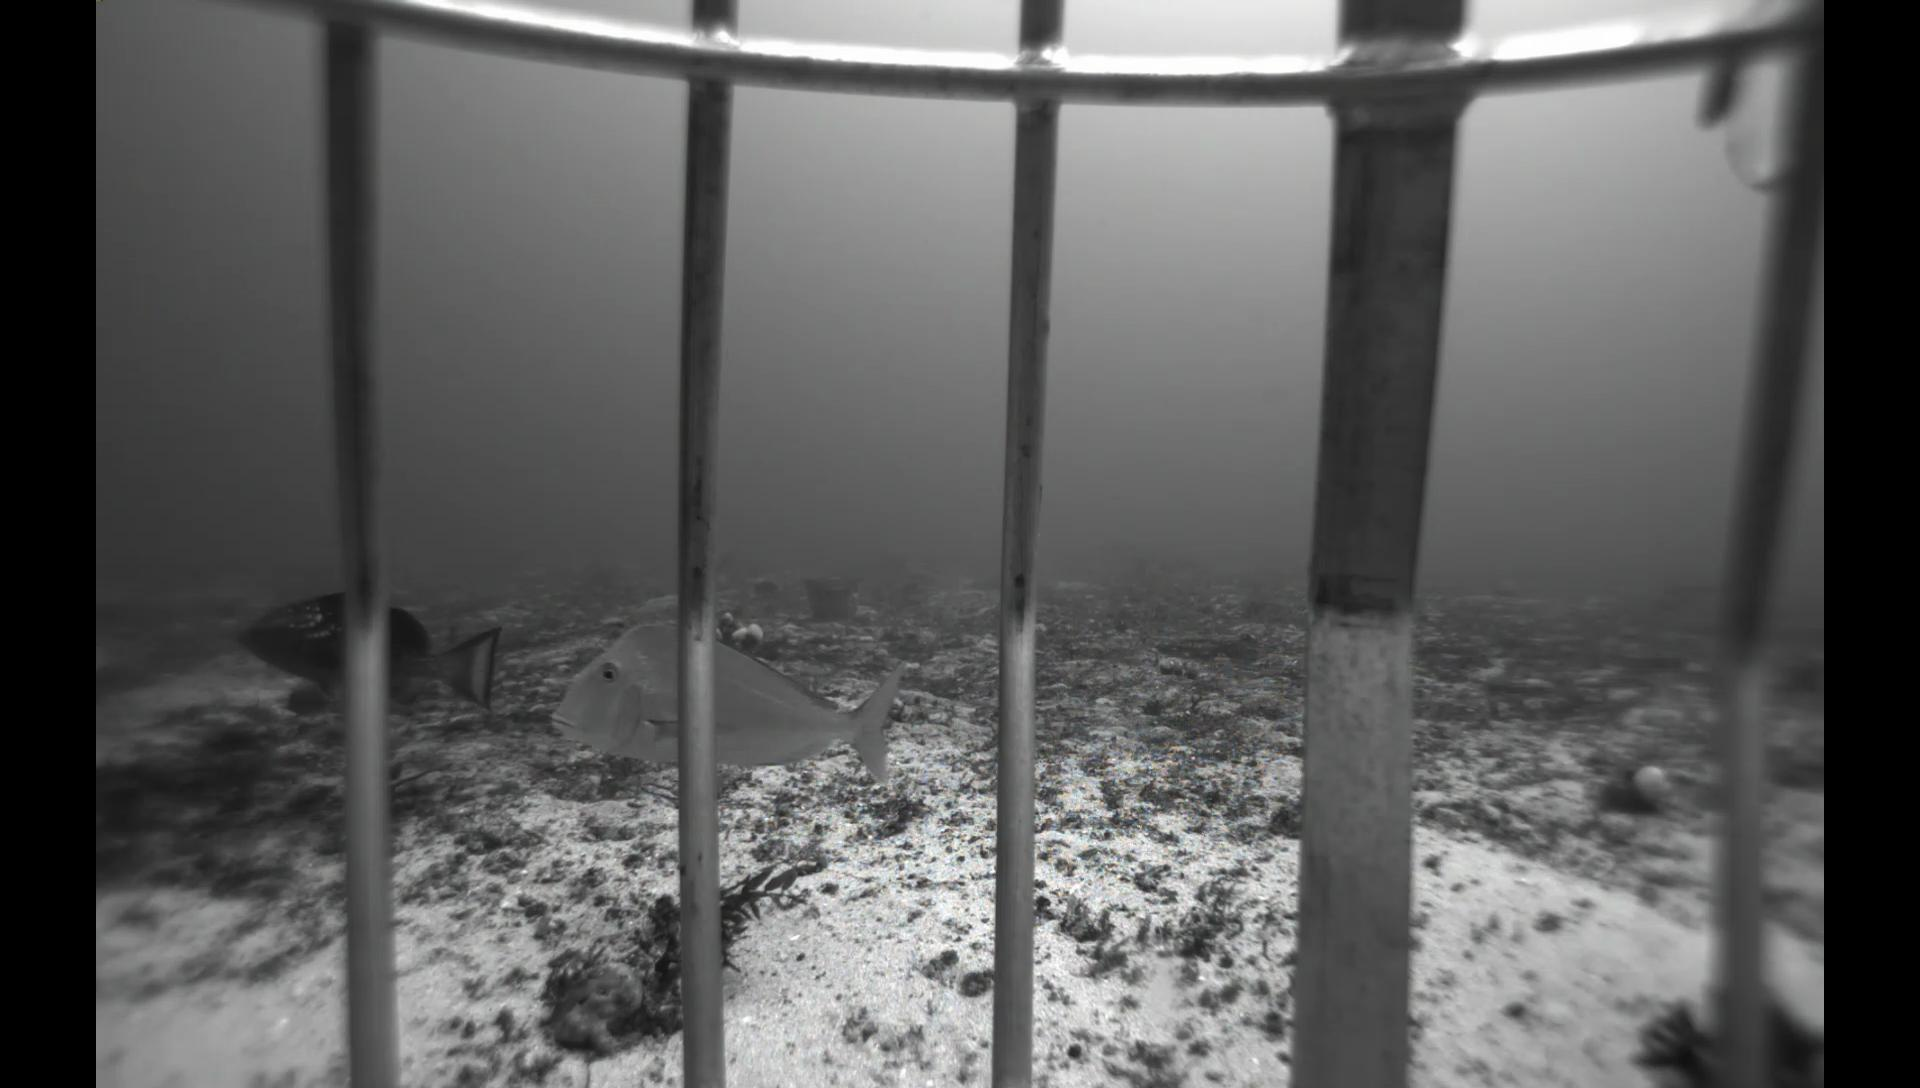CALAMUSNODOSUS-170210608: (545, 621, 918, 803)
CHAETODONOCELLATUS-170260307: (881, 578, 909, 597), (713, 572, 732, 587)
EPINEPHELUSMORIO-170021211: (231, 586, 501, 729)
PRISTIGENYSALTA-170050401: (278, 680, 343, 720)
